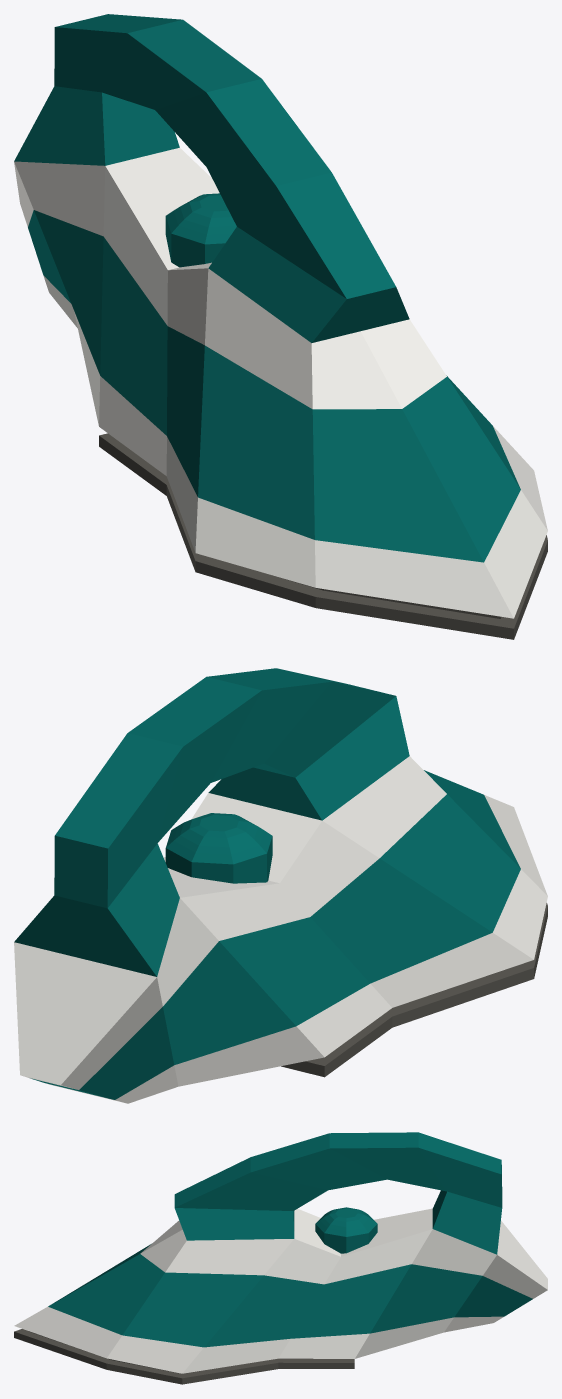
File: clothesiron.fbx
3 renders of one model, top to bottom at view 1: azimuth 30°, elevation 25°; view 2: azimuth 150°, elevation 25°; view 3: azimuth 270°, elevation 25°, orthographic. The views are drawn at different scales.
Visible parts, largest first — view 1: Cube; view 2: Cube; view 3: Cube.
Boxes of the visible parts, bbox=[...] form: Cube: bbox=[14, 14, 547, 639]; Cube: bbox=[14, 668, 547, 1103]; Cube: bbox=[14, 1132, 547, 1384].
Bounding box in the file's own units: 275 × 273 × 666.
